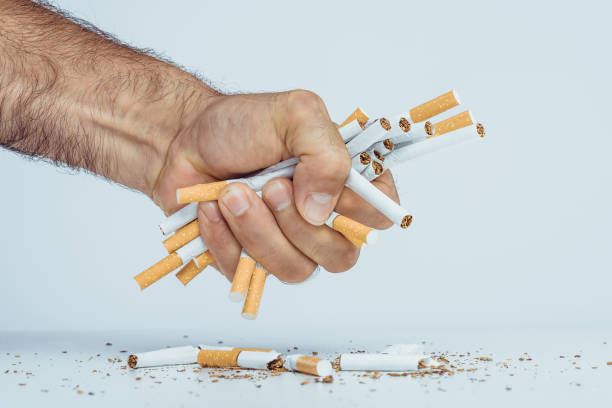cigarette: (176, 164, 298, 204), (384, 122, 486, 167), (344, 166, 413, 230), (132, 235, 205, 291), (406, 89, 462, 124), (338, 351, 426, 373), (325, 210, 380, 244), (198, 348, 283, 370), (346, 117, 392, 157), (127, 345, 198, 368), (241, 261, 268, 321), (228, 246, 256, 303), (157, 200, 200, 234), (162, 218, 200, 255), (283, 352, 333, 377), (434, 110, 475, 136), (392, 120, 436, 144), (375, 117, 412, 142), (337, 118, 366, 143), (341, 106, 370, 128), (174, 262, 197, 287), (191, 250, 214, 270), (352, 150, 372, 172), (361, 162, 383, 181), (342, 234, 368, 250), (376, 139, 395, 153), (369, 148, 386, 162)
